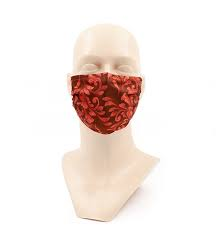mask: (64, 70, 149, 138)
